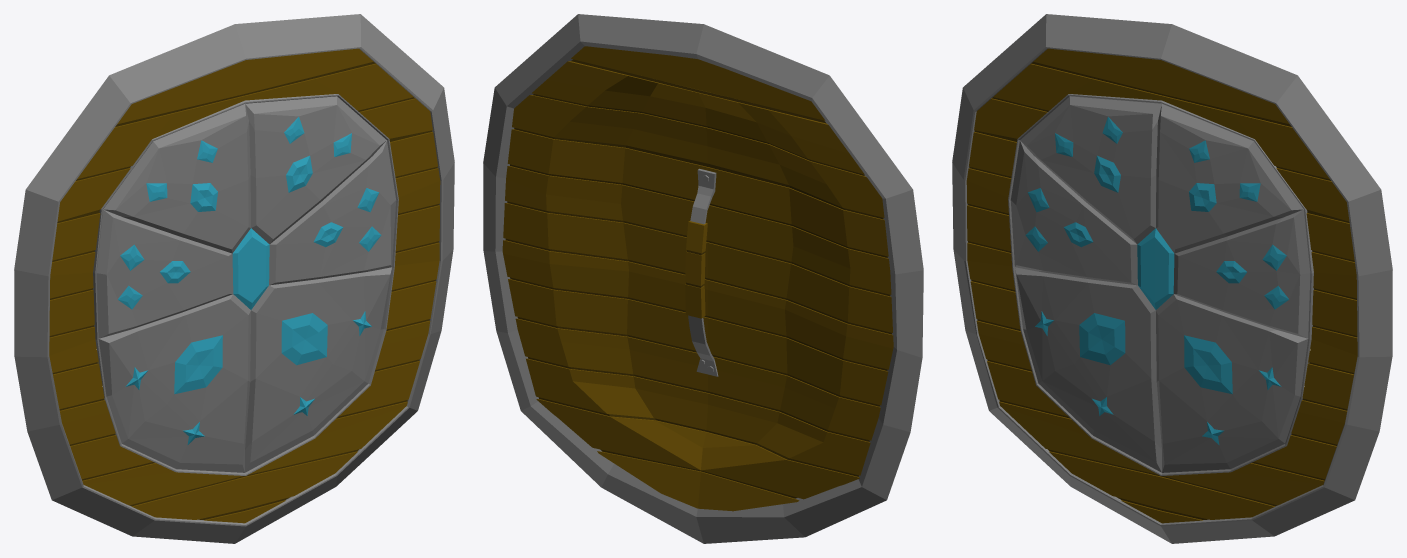
The model's file is shield.fbx.
3 views of the same model, side by side, from view 1: azimuth 30°, elevation 25°; view 2: azimuth 150°, elevation 25°; view 3: azimuth 330°, elevation 25° (orthographic).
Visible parts, largest first — view 1: Shield2; view 2: Shield2; view 3: Shield2.
Boxes of the visible parts, <box> form: Shield2: <box>14,14,454,543</box>; Shield2: <box>483,14,923,543</box>; Shield2: <box>952,14,1392,543</box>.
Size of the model in its own units: 153 by 172 by 17.49.
